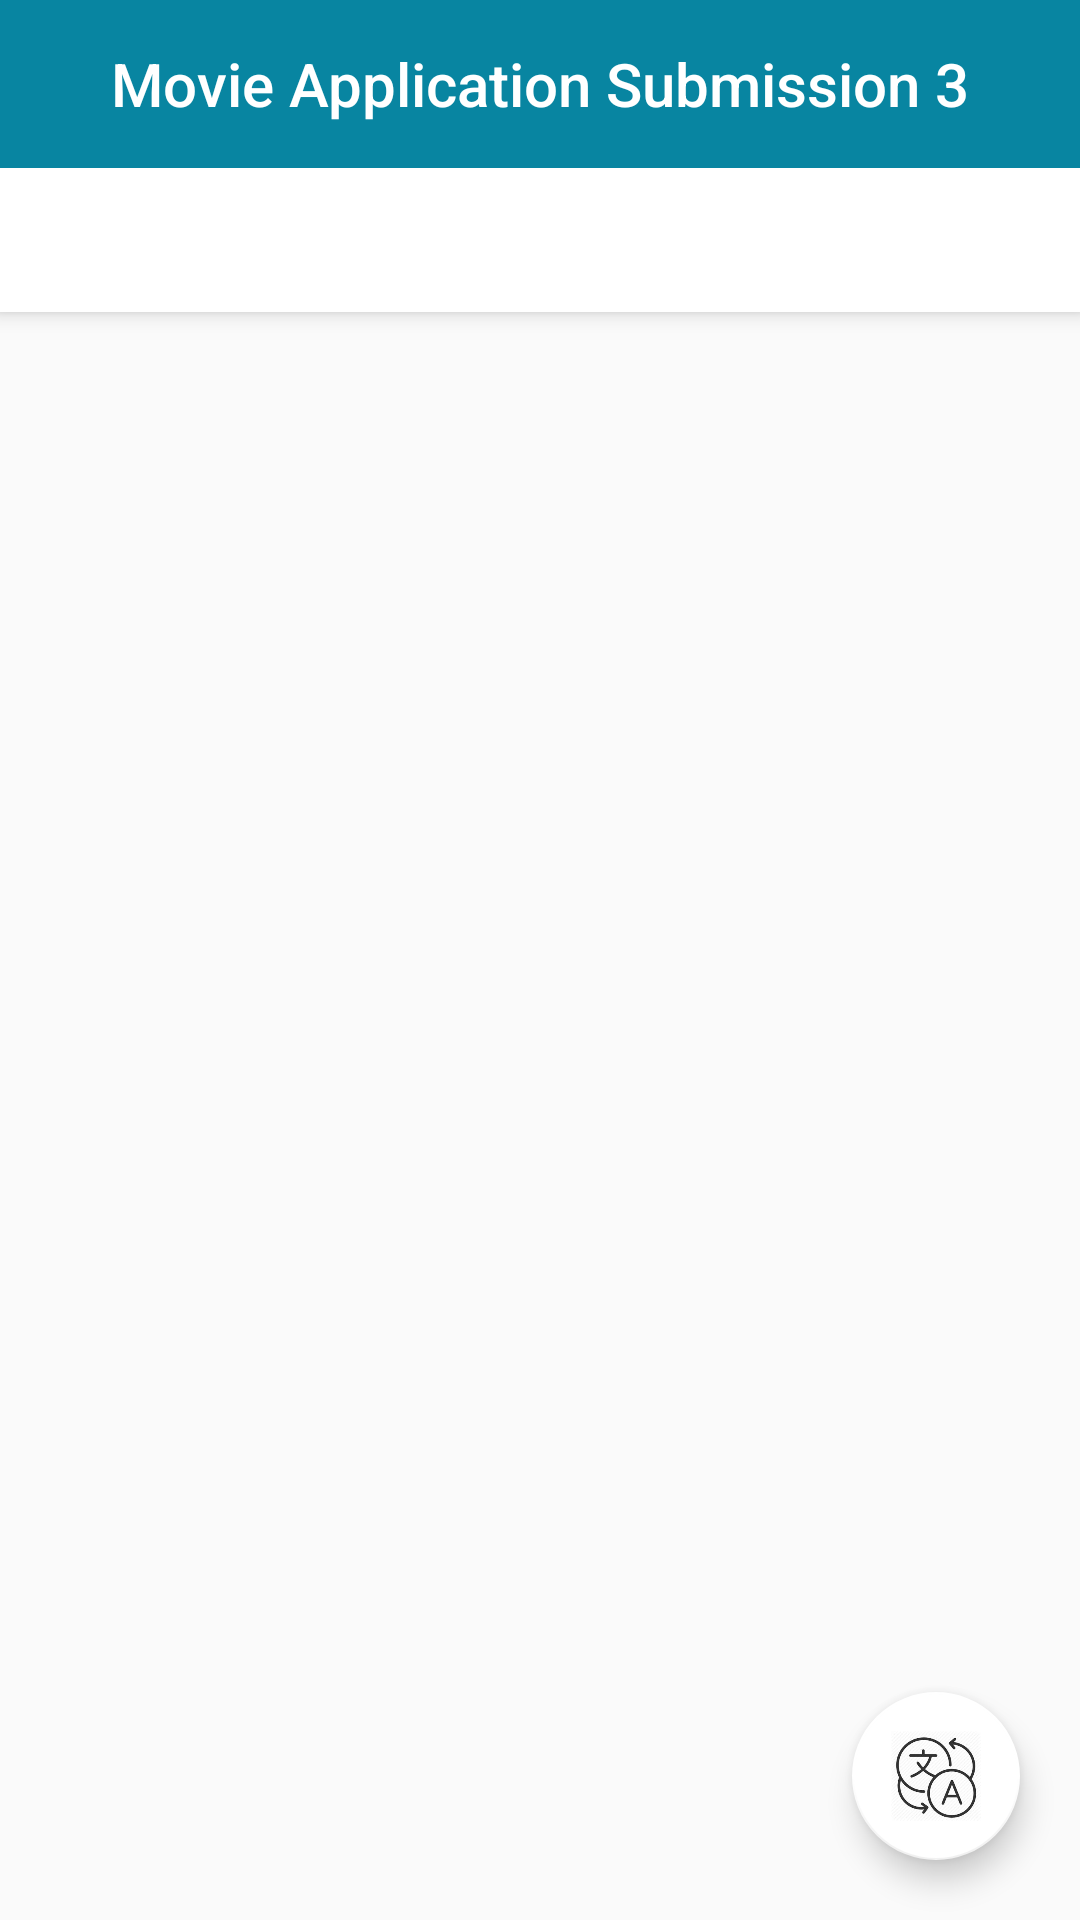

Icon bounding boxes for this 1080×1920 phone screenshot, format (x1, y1, x2, y2):
change: (856, 1737, 976, 1818)
